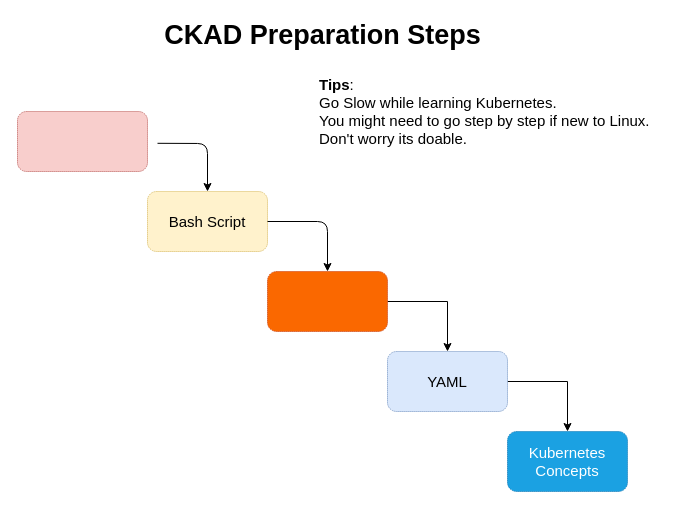
This 685x509 diagram has some shape labels left out. Here are the shapes that lost their labels. From the top down, the centre of each, then its label:
At (82,141): "Linux Commands".
At (327,301): "Vim editor".
